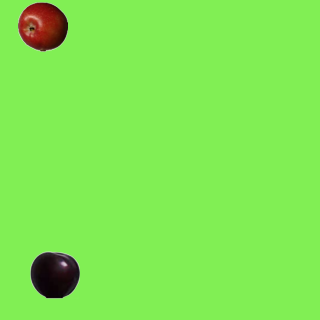Apple Braeburn: (17, 1, 67, 51)
Cherry Wax Black: (29, 249, 79, 299)
